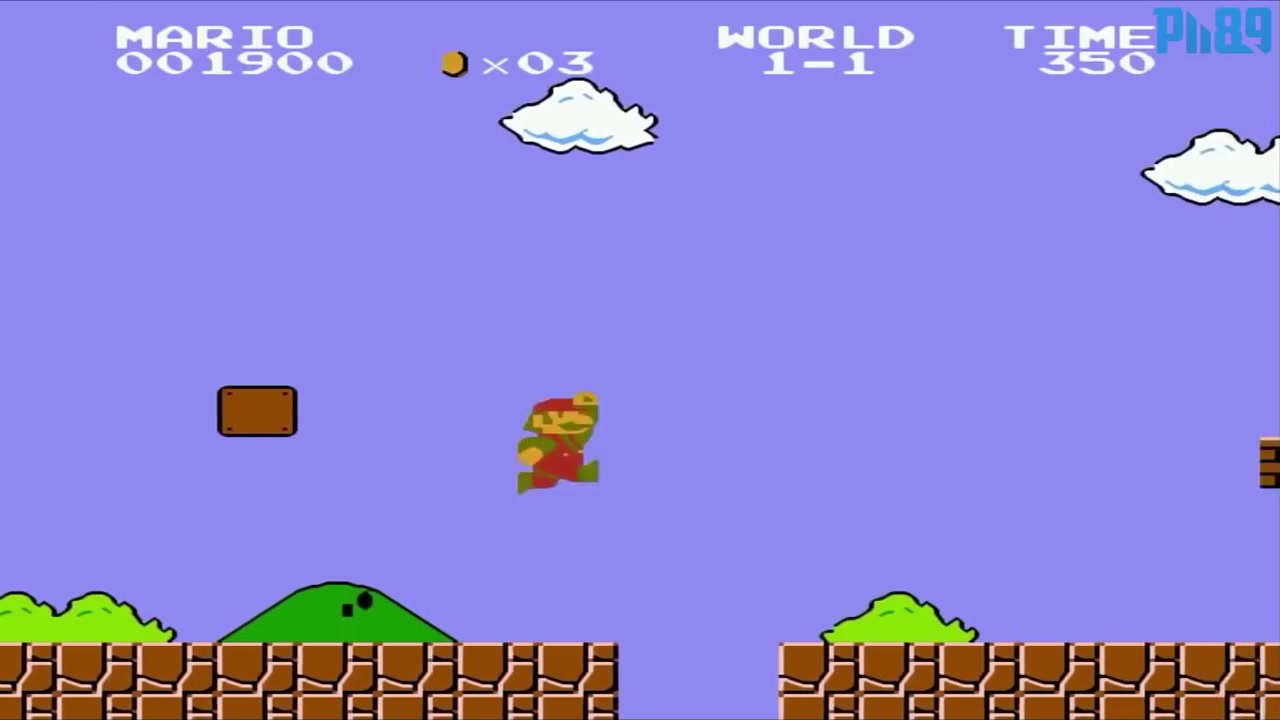mario: (504, 383, 614, 504)
